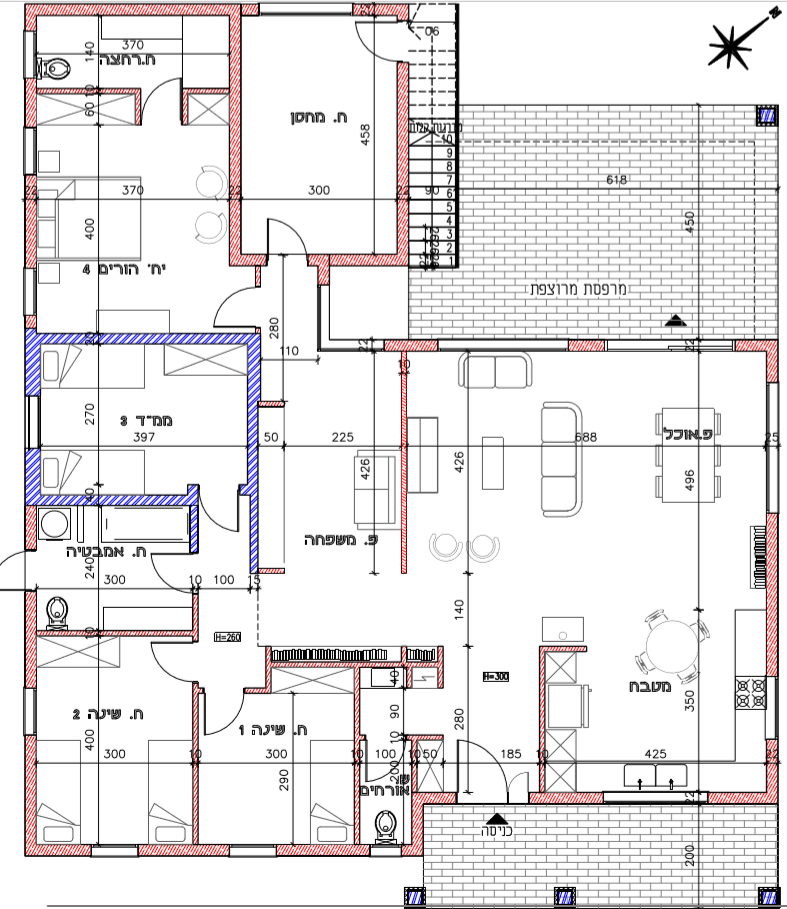door: (449, 736, 535, 789), (204, 282, 252, 330), (144, 548, 189, 598), (147, 640, 191, 686), (201, 693, 245, 739), (363, 741, 407, 787), (764, 381, 779, 513), (199, 497, 245, 539), (262, 213, 309, 251), (438, 339, 569, 350), (604, 339, 735, 350), (603, 791, 709, 804), (764, 676, 779, 739)
window: (91, 844, 138, 856), (229, 845, 276, 857), (369, 844, 401, 858)
